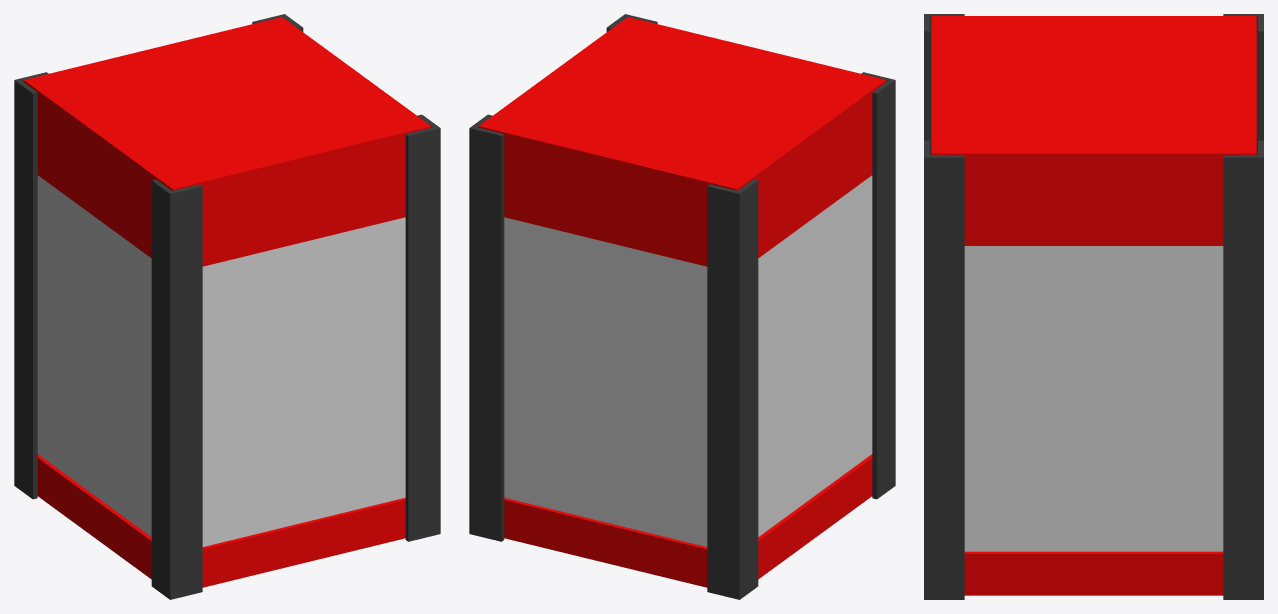
Rendered from popcorn-machine.fbx.
3 renders of one model, left to right at view 1: azimuth 30°, elevation 25°; view 2: azimuth 150°, elevation 25°; view 3: azimuth 270°, elevation 25°, orthographic. The views are drawn at different scales.
Parts seen in each view (by area): view 1: GlassPanes, TopBot, EdgeGuard.001, EdgeGuard, EdgeGuard.002; view 2: GlassPanes, TopBot, EdgeGuard.002, EdgeGuard.003, EdgeGuard.001; view 3: TopBot, GlassPanes, EdgeGuard, EdgeGuard.003, EdgeGuard.001, EdgeGuard.002.
Boxes of the visible parts, x1=… form: GlassPanes: x1=37, y1=175, x2=405, y2=546; TopBot: x1=23, y1=17, x2=431, y2=587; EdgeGuard.001: x1=151, y1=179, x2=202, y2=599; EdgeGuard: x1=405, y1=114, x2=440, y2=541; EdgeGuard.002: x1=14, y1=72, x2=48, y2=499; GlassPanes: x1=504, y1=175, x2=872, y2=546; TopBot: x1=478, y1=17, x2=886, y2=587; EdgeGuard.002: x1=707, y1=179, x2=758, y2=599; EdgeGuard.003: x1=469, y1=114, x2=504, y2=541; EdgeGuard.001: x1=861, y1=72, x2=895, y2=499; TopBot: x1=931, y1=16, x2=1256, y2=595; GlassPanes: x1=964, y1=246, x2=1223, y2=551; EdgeGuard: x1=924, y1=140, x2=964, y2=599; EdgeGuard.003: x1=1223, y1=140, x2=1263, y2=599; EdgeGuard.001: x1=924, y1=14, x2=964, y2=154; EdgeGuard.002: x1=1223, y1=14, x2=1263, y2=154.
Size of the model in its own units: 56.58 by 81.33 by 56.53.
